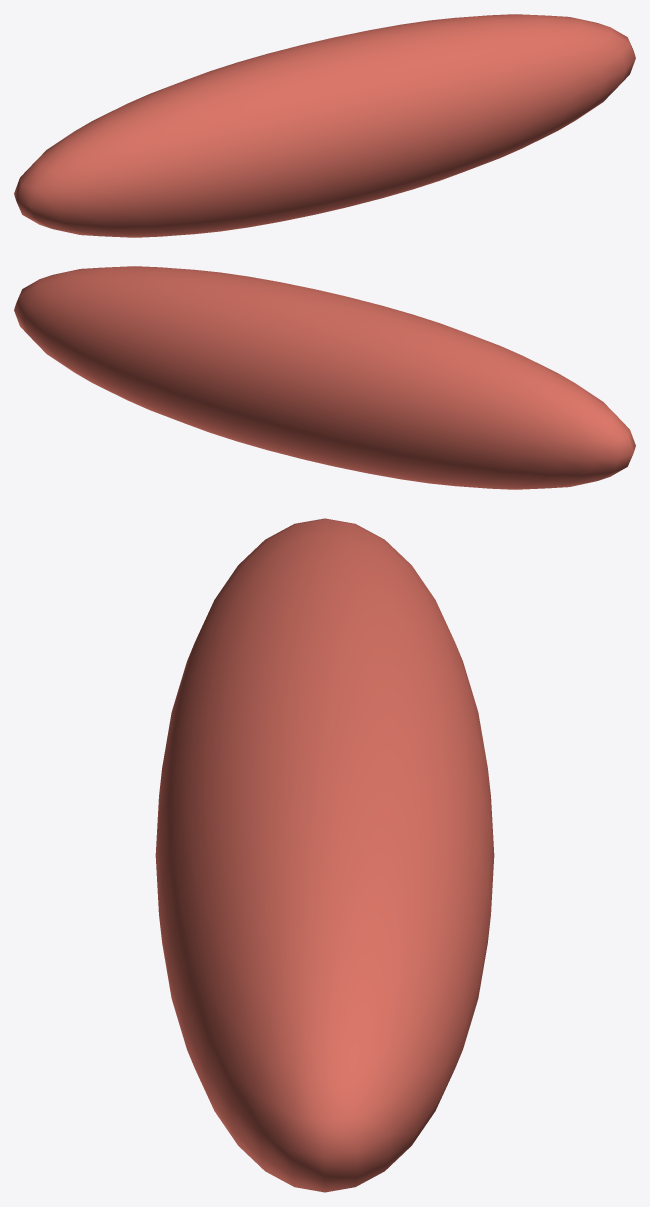
Rendered from sausage_cooked.glb.
The picture shows the model from 3 angles, top to bottom: view 1: azimuth 30°, elevation 25°; view 2: azimuth 150°, elevation 25°; view 3: azimuth 270°, elevation 25°; orthographic projection. The views are drawn at different scales.
Visible parts, largest first — view 1: Sausage_Cooked; view 2: Sausage_Cooked; view 3: Sausage_Cooked.
Part boxes in pixels (x1=…): Sausage_Cooked: x1=14, y1=14, x2=635, y2=237; Sausage_Cooked: x1=14, y1=266, x2=635, y2=489; Sausage_Cooked: x1=155, y1=518, x2=494, y2=1192.
Size of the model in its own units: 3.84 by 0.912 by 0.912.
